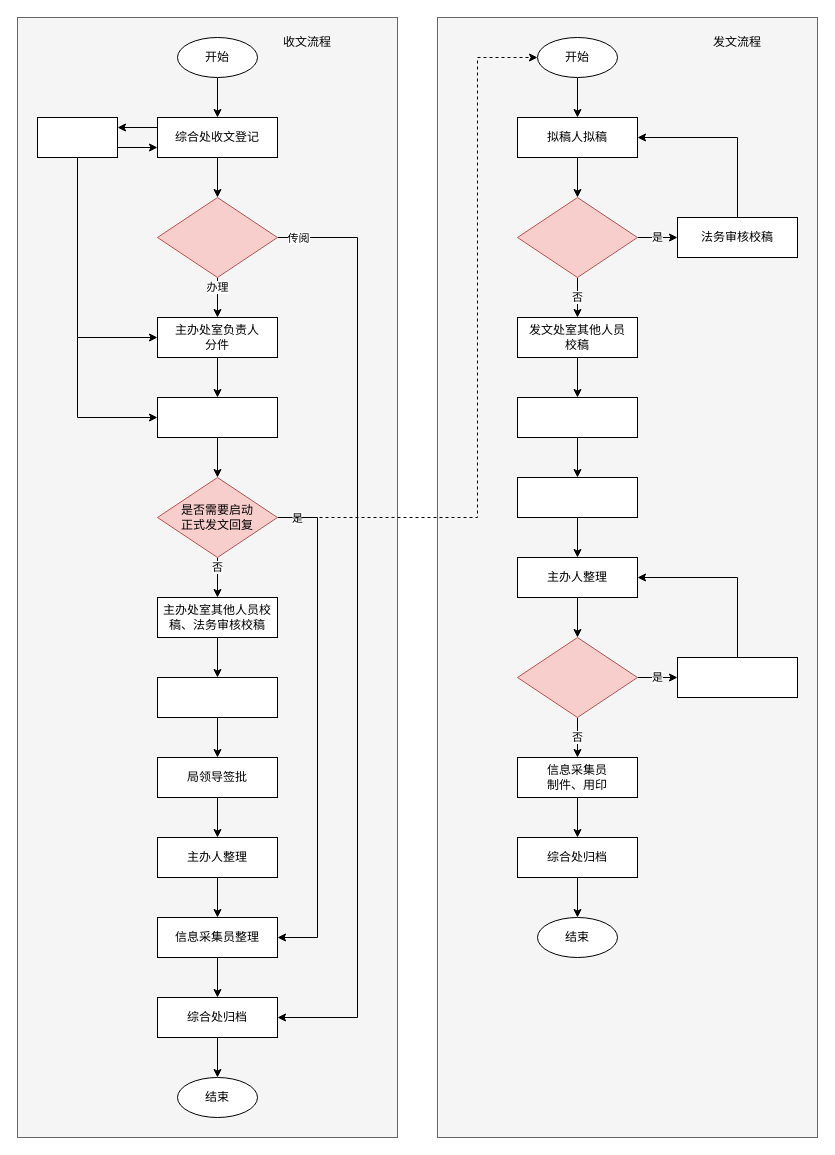
Image size: 835x1155. Some labels were removed from this diagram. Each missing label, with the box of its shape:
主办人办理: (156, 396, 278, 438)
主办处室负责人审核: (156, 676, 278, 718)
发文处室负责人审核: (516, 396, 638, 438)
局领导批示: (36, 116, 118, 158)
局领导签发: (516, 476, 638, 518)
是否需办理 （传阅/办理）: (156, 196, 278, 278)
是否需要 法务校稿: (516, 196, 638, 278)
是否需要 综合处校稿: (516, 636, 638, 718)
综合处校稿: (676, 656, 798, 698)
